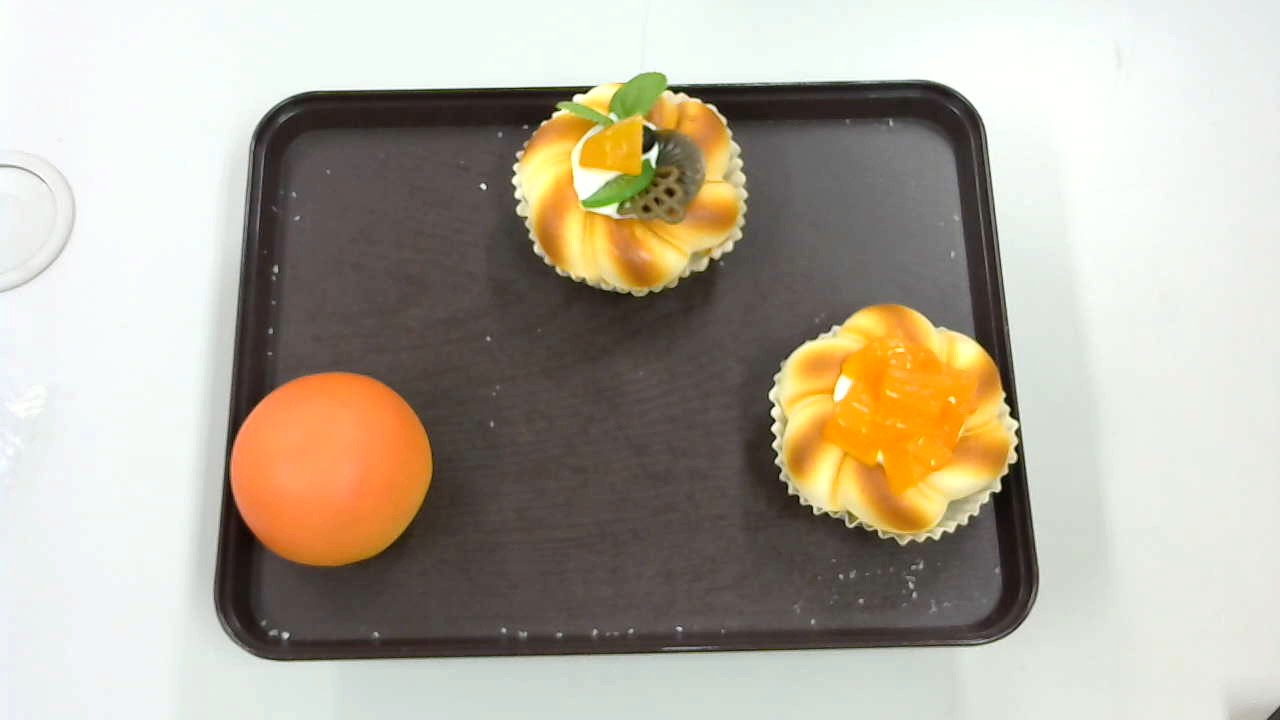bun: (230, 370, 433, 568)
fruit tart: (513, 73, 749, 295)
mango tart: (769, 301, 1020, 545)
